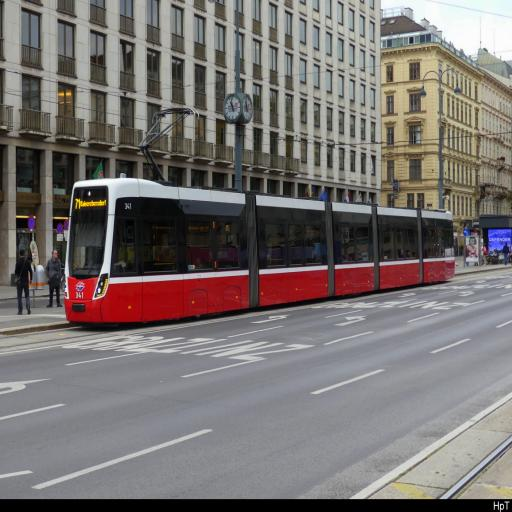Flexity: (64, 177, 457, 323)
